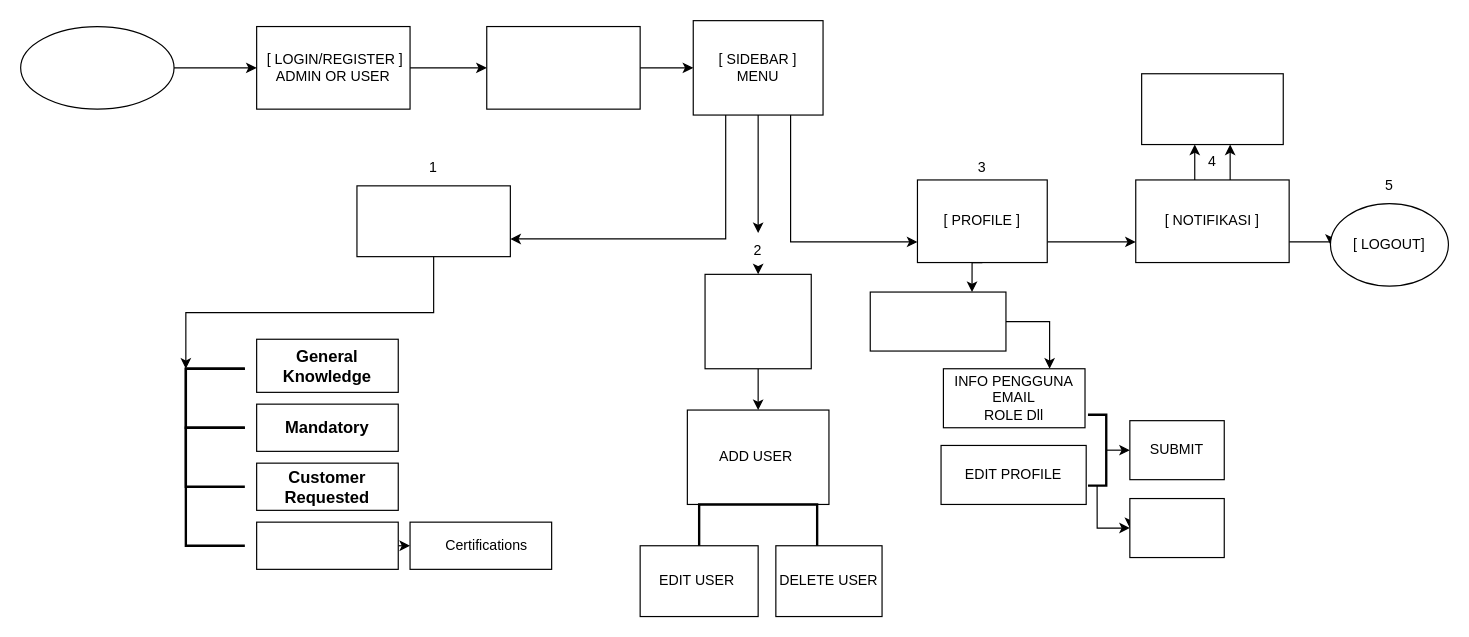
Image size: 1469x637. Some labels were removed from this diagram. The centre of each missing label's shape, as x and y in pixels:
"[ DASHBOARD ]" goes at pixel 563 67.
"[ WELCOME ]" goes at pixel 96 67.
"[ADMIN]" goes at pixel 757 321.
"CANCEL" goes at pixel 1176 527.
"License" goes at pixel 326 545.
"MASI PENGEMBANGAN" goes at pixel 1211 109.
"MY ACCOUNT" goes at pixel 937 321.
"TRAINING ( PELATIHAN )" goes at pixel 433 221.
